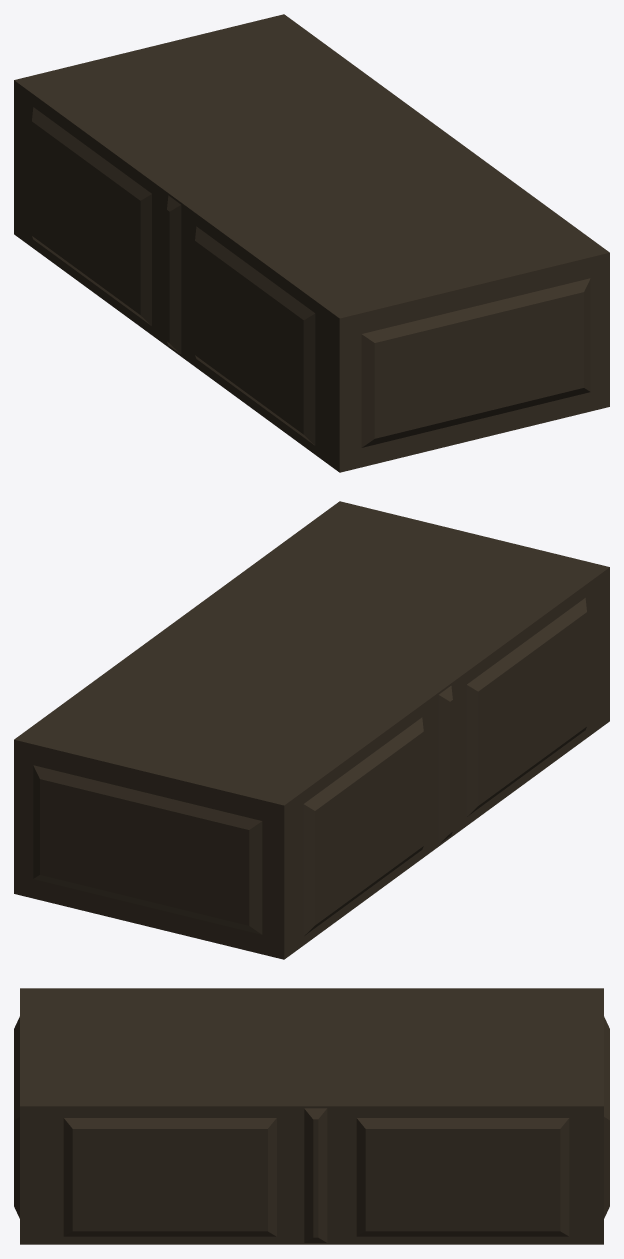
File: Itr_Bed_Single_Body_01.FBX
The picture shows the model from 3 angles, top to bottom: view 1: azimuth 30°, elevation 25°; view 2: azimuth 150°, elevation 25°; view 3: azimuth 270°, elevation 25°; orthographic projection. The views are drawn at different scales.
Visible parts, largest first — view 1: Itr_Bed_Single_Body_01; view 2: Itr_Bed_Single_Body_01; view 3: Itr_Bed_Single_Body_01.
Part boxes in pixels (<box>): Itr_Bed_Single_Body_01: <box>14,14,609,472</box>; Itr_Bed_Single_Body_01: <box>14,501,609,959</box>; Itr_Bed_Single_Body_01: <box>14,988,609,1244</box>.
Size of the model in its own units: 45.4 by 23.62 by 92.26.
